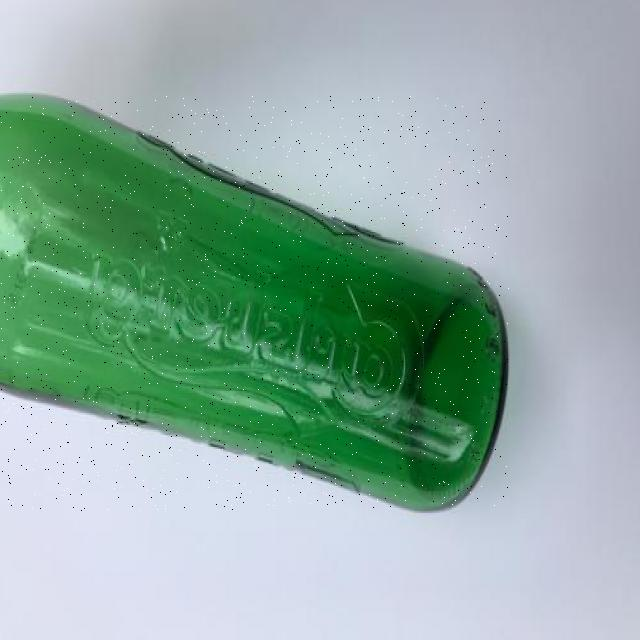glass: (0, 96, 509, 511)
